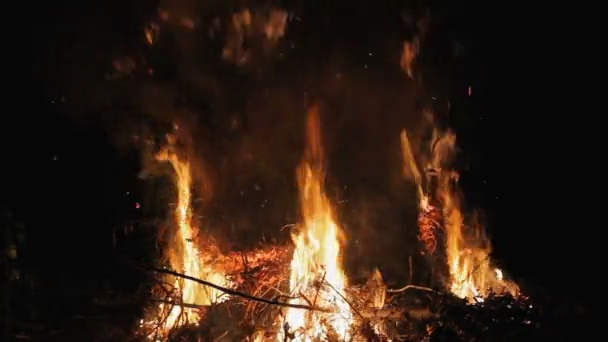fire: (276, 163, 387, 342), (136, 147, 237, 336), (419, 157, 516, 305)
